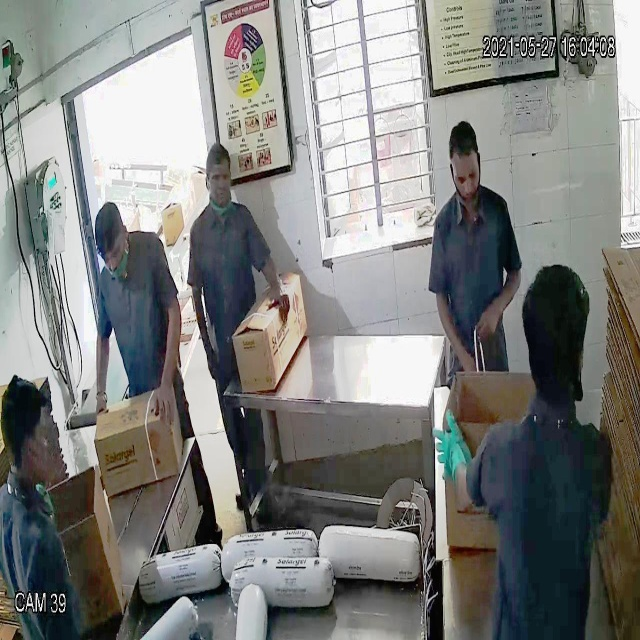Sin_gafas: (449, 156, 486, 196), (94, 240, 130, 273), (202, 162, 236, 194)
